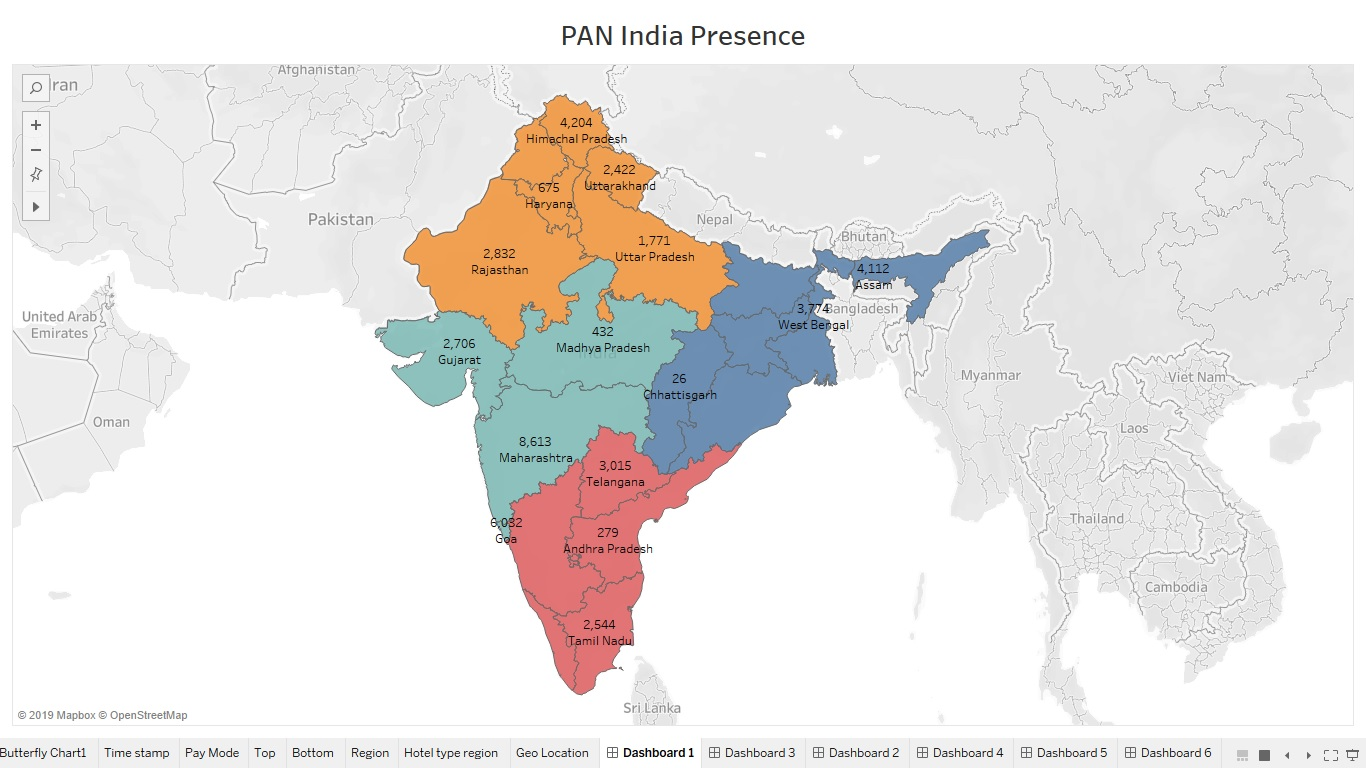

This screenshot's page, from the dashboard's own definition file:
{"tool":"tableau","page":{"name":"Dashboard 1","canvas":[1000,1000],"units":"permille","ordinal":0},"visuals":[{"type":"worksheet","title":"Geo Location","mark":"Multipolygon","box":[5.9,10.8,988.3,978.3]}]}

Visuals, with their boxes on the dashboard's canvas, which has no fixed pixel size, in thousandths of its width and height (x1, y1, x2, y2). These are canvas units, not pixel positions in the 1366x768 screenshot, which may show the page scaled, cropped or inside an application window:
"Geo Location" worksheet (Multipolygon marks): bbox(6, 11, 994, 989)
